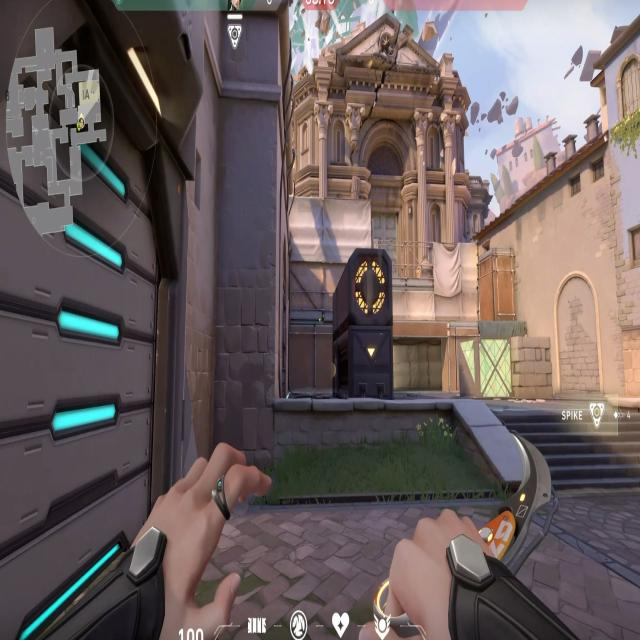A_Heaven_Box: (474, 244, 522, 326)
A_Heaven_Wall: (287, 180, 387, 314)
A_Hell: (393, 320, 461, 402)
A_Site_Box: (454, 330, 562, 404)
